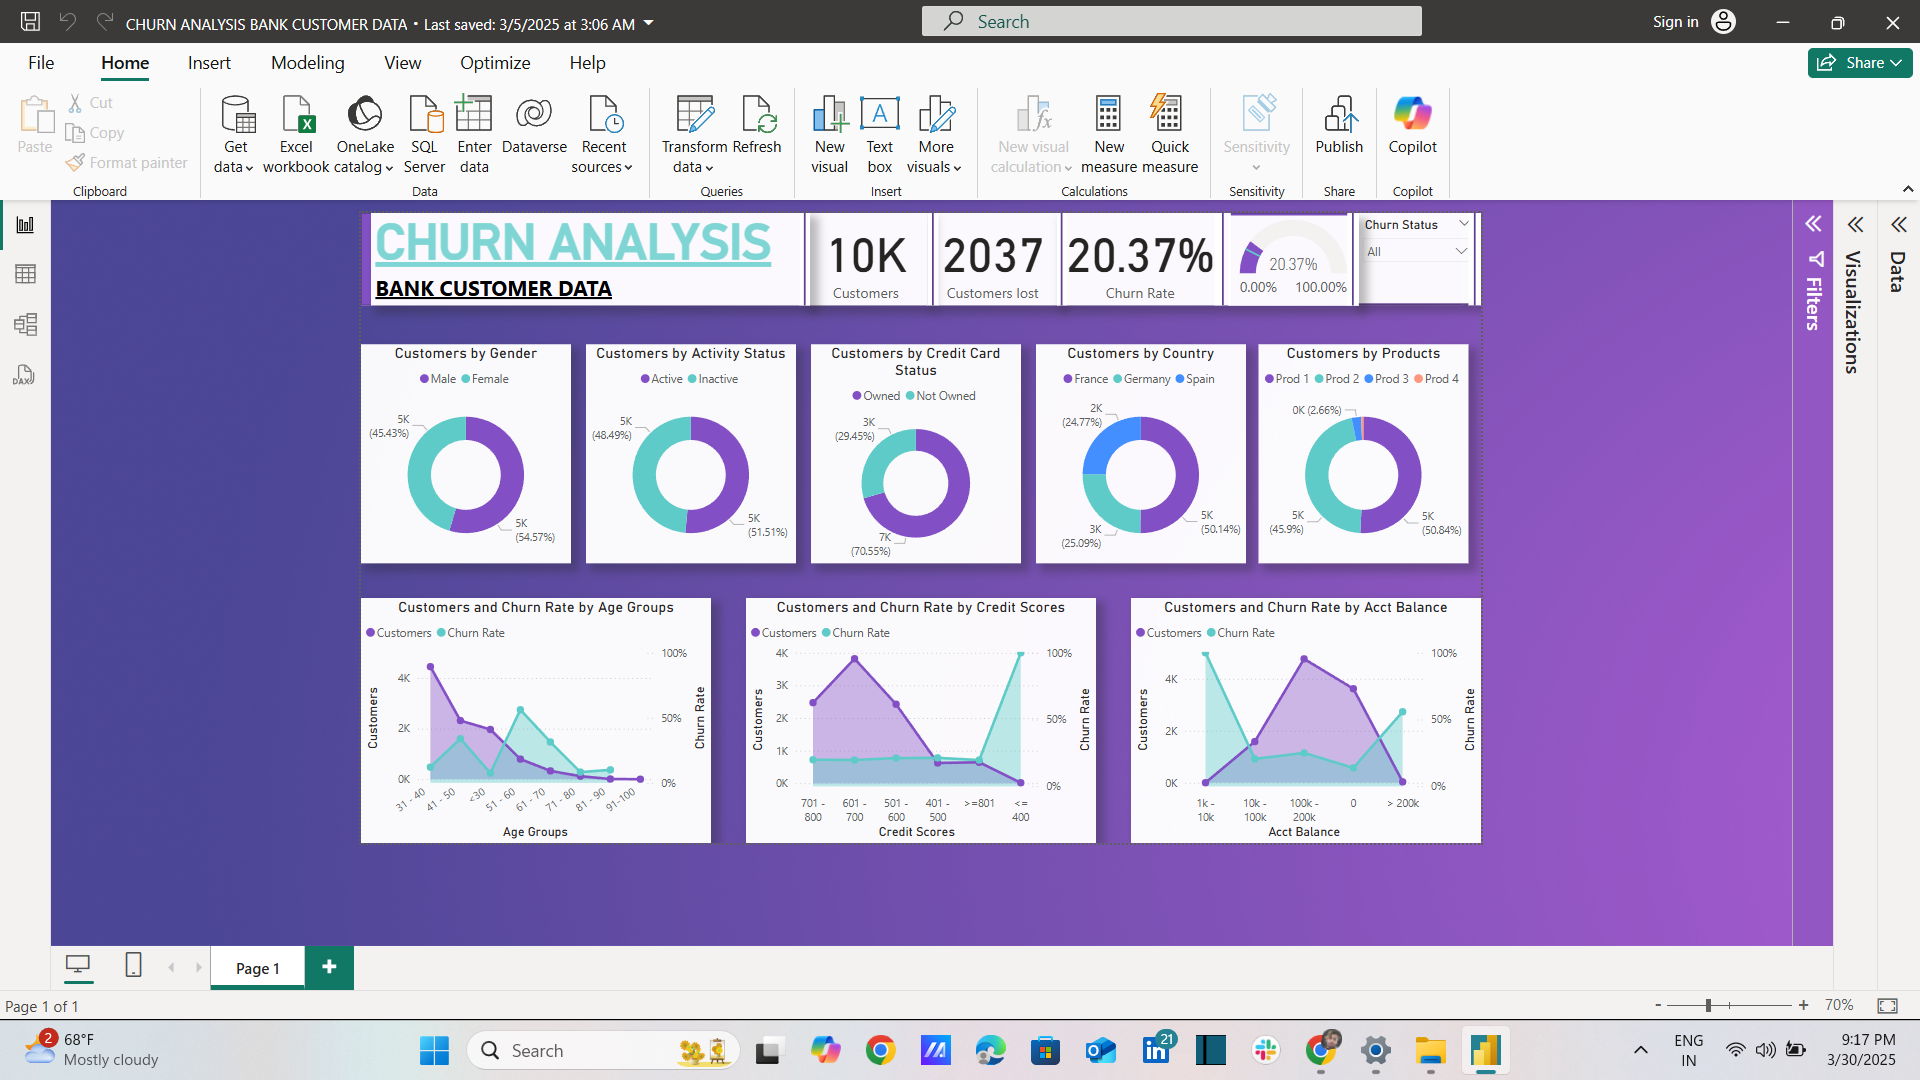

What the dashboard file says about the page in this screenshot:
{"tool":"powerbi","page":{"name":"Page 1","canvas":[1280,720],"ordinal":0},"visuals":[{"type":"shape","box":[0,0,1258.9,105.6],"z":0},{"type":"card","fields":{"Values":["Customer Data.Customers lost"]},"box":[647.1,0,150,105.7],"z":1000},{"type":"card","fields":{"Values":["Customer Data.Churn Rate"]},"box":[795.7,0,190,105.7],"z":2000},{"type":"card","fields":{"Values":["Customer Data.customers"]},"box":[507.1,0,140,105.7],"z":3000},{"type":"donutChart","fields":{"Category":["Customer Data.Gender"],"Y":["Customer Data.customers"]},"box":[0,150,240,250],"z":4000},{"type":"donutChart","fields":{"Y":["Customer Data.customers"],"Category":["Customer Data.Activity Status"]},"box":[257.1,150,240,250],"z":5000},{"type":"donutChart","fields":{"Y":["Customer Data.customers"],"Category":["Customer Data.Credit Card Status"]},"box":[514.3,150,240,250],"z":6000},{"type":"donutChart","fields":{"Y":["Customer Data.customers"],"Category":["Customer Data.Country"]},"box":[771.4,150,240,250],"z":7000},{"type":"donutChart","fields":{"Y":["Customer Data.customers"],"Category":["Customer Data.Prod 1"]},"box":[1025.7,150,240,250],"z":8000},{"type":"areaChart","fields":{"Category":["Customer Data.Age Groups"],"Y":["Customer Data.Customers"],"Y2":["Customer Data.Churn Rate"]},"box":[0,440,400,280],"z":9000},{"type":"areaChart","fields":{"Category":["Credit Scores group.Credit Scores "],"Y":["Customer Data.Customers"],"Y2":["Customer Data.Churn Rate"]},"box":[440,440,400,280],"z":10000},{"type":"areaChart","fields":{"Category":["Acc Balance group.Acct Balance"],"Y":["Customer Data.Customers"],"Y2":["Customer Data.Churn Rate"]},"box":[880,440,400,280],"z":11000},{"type":"slicer","fields":{"Values":["Customer Data.Churn Status"]},"box":[1134.3,0,145.7,102.9],"z":12000},{"type":"gauge","fields":{"Y":["Customer Data.Churn Rate"],"MinValue":["Min(Customer Data.Min Churn Rate)"],"MaxValue":["Max(Customer Data.Max Churn Rate)"],"TargetValue":["Max(Customer Data.Target Churn Rate)"]},"box":[991.4,2.9,148.6,102.9],"z":13000},{"type":"textbox","title":"  CHURN ANALYSIS ","box":[11.4,0,501.4,105.7],"z":13001},{"type":"shape","box":[501.4,0,11.4,105.7],"z":13002},{"type":"shape","box":[647.1,0,12.9,105.7],"z":13003},{"type":"shape","box":[795.7,0,10,105.7],"z":13004},{"type":"shape","box":[975.7,0,18.6,105.7],"z":13005},{"type":"shape","box":[1127.1,0,12.9,105.7],"z":13006},{"type":"shape","box":[1265.7,0,14.3,105.7],"z":13007}]}

Visuals, with their boxes on the page's 1280x720 design canvas (x1, y1, x2, y2). These are canvas units, not pixel positions in the 1920x1080 screenshot, which may show the page scaled, cropped or inside an application window:
shape: x1=0 y1=0 x2=1259 y2=106
card - Customer Data.Customers lost: x1=647 y1=0 x2=797 y2=106
card - Customer Data.Churn Rate: x1=796 y1=0 x2=986 y2=106
card - Customer Data.customers: x1=507 y1=0 x2=647 y2=106
donutChart - Customer Data.Gender x Customer Data.customers: x1=0 y1=150 x2=240 y2=400
donutChart - Customer Data.customers x Customer Data.Activity Status: x1=257 y1=150 x2=497 y2=400
donutChart - Customer Data.customers x Customer Data.Credit Card Status: x1=514 y1=150 x2=754 y2=400
donutChart - Customer Data.customers x Customer Data.Country: x1=771 y1=150 x2=1011 y2=400
donutChart - Customer Data.customers x Customer Data.Prod 1: x1=1026 y1=150 x2=1266 y2=400
areaChart - Customer Data.Age Groups x Customer Data.Customers: x1=0 y1=440 x2=400 y2=720
areaChart - Credit Scores group.Credit Scores  x Customer Data.Customers: x1=440 y1=440 x2=840 y2=720
areaChart - Acc Balance group.Acct Balance x Customer Data.Customers: x1=880 y1=440 x2=1280 y2=720
slicer - Customer Data.Churn Status: x1=1134 y1=0 x2=1280 y2=103
gauge - Customer Data.Churn Rate x Min(Customer Data.Min Churn Rate): x1=991 y1=3 x2=1140 y2=106
"  CHURN ANALYSIS " textbox: x1=11 y1=0 x2=513 y2=106
shape: x1=501 y1=0 x2=513 y2=106
shape: x1=647 y1=0 x2=660 y2=106
shape: x1=796 y1=0 x2=806 y2=106
shape: x1=976 y1=0 x2=994 y2=106
shape: x1=1127 y1=0 x2=1140 y2=106
shape: x1=1266 y1=0 x2=1280 y2=106
